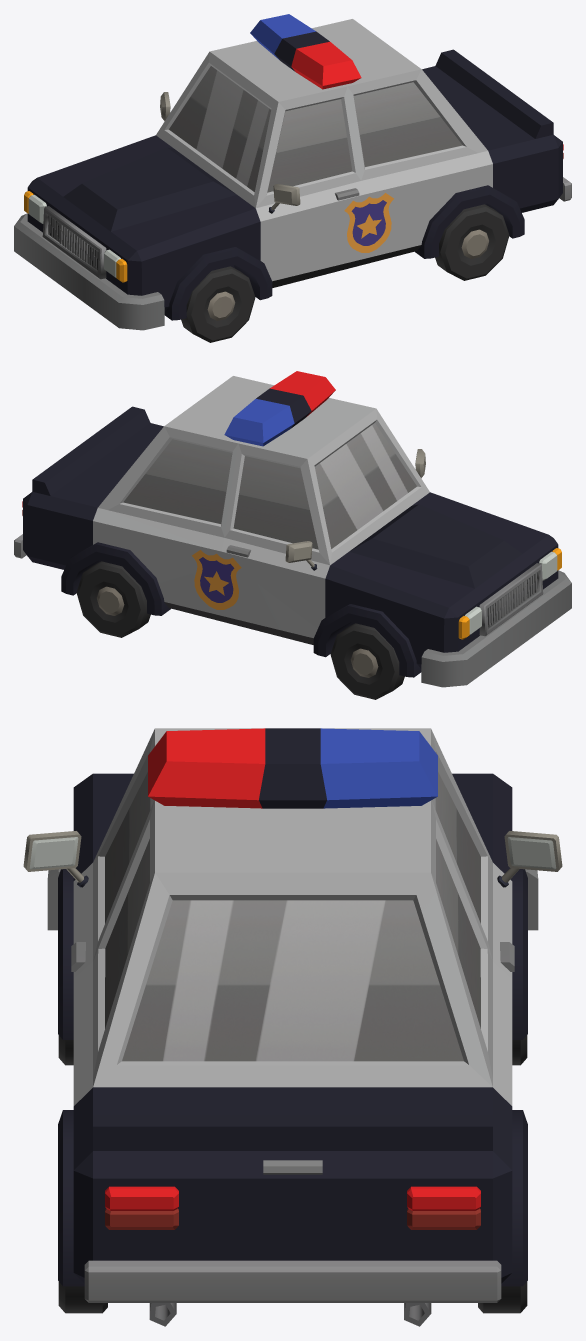
Rendered from Car_Police_1_A_1.gltf.
3 views of the same model, one above another, from view 1: azimuth 30°, elevation 25°; view 2: azimuth 150°, elevation 25°; view 3: azimuth 270°, elevation 25° (orthographic). The views are drawn at different scales.
Parts seen in each view (by area): view 1: Car_Police_1_A_1, RL, FL; view 2: Car_Police_1_A_1, RR, FR; view 3: Car_Police_1_A_1, RL, RR.
Boxes of the visible parts, bbox=[...] form: Car_Police_1_A_1: bbox=[14, 14, 571, 330]; RL: bbox=[435, 204, 509, 280]; FL: bbox=[181, 266, 255, 342]; Car_Police_1_A_1: bbox=[14, 371, 571, 687]; RR: bbox=[76, 561, 150, 637]; FR: bbox=[330, 623, 404, 699]; Car_Police_1_A_1: bbox=[23, 728, 562, 1326]; RL: bbox=[58, 1281, 107, 1313]; RR: bbox=[478, 1281, 527, 1313].
Size of the model in its own units: 3.47 by 1.64 by 1.78.
Materials: 3 (3 with a texture image).
